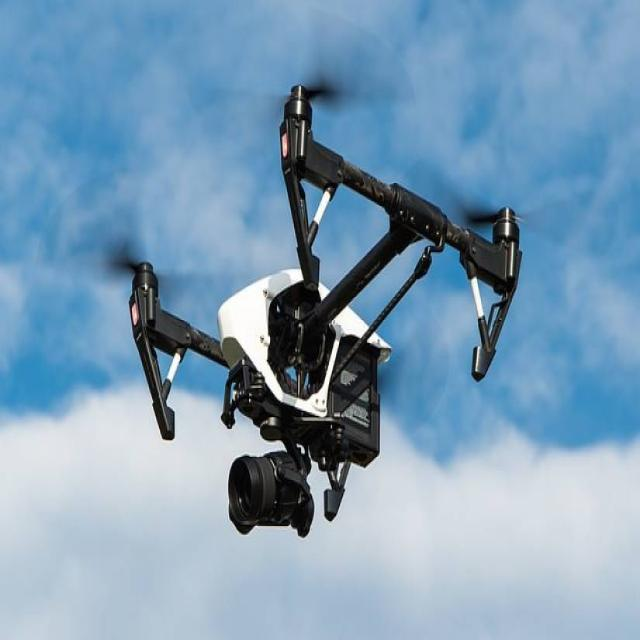drone: (92, 69, 536, 503)
